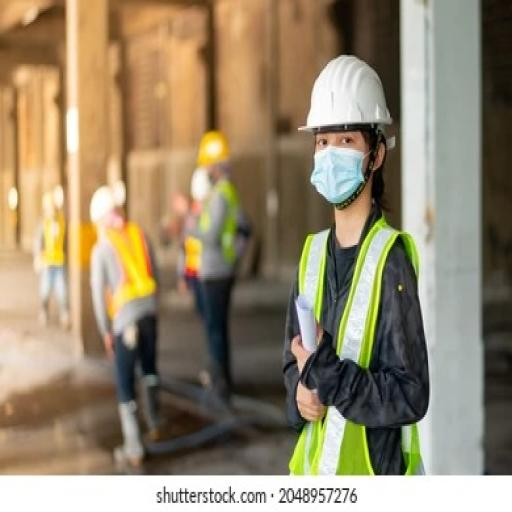mask: (308, 147, 364, 205)
